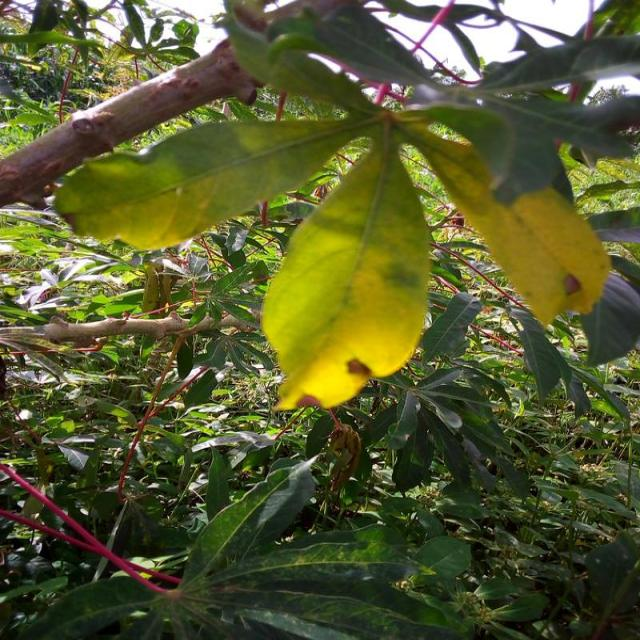cassava leaf: (51, 0, 637, 412), (260, 135, 430, 412), (52, 112, 376, 252)
